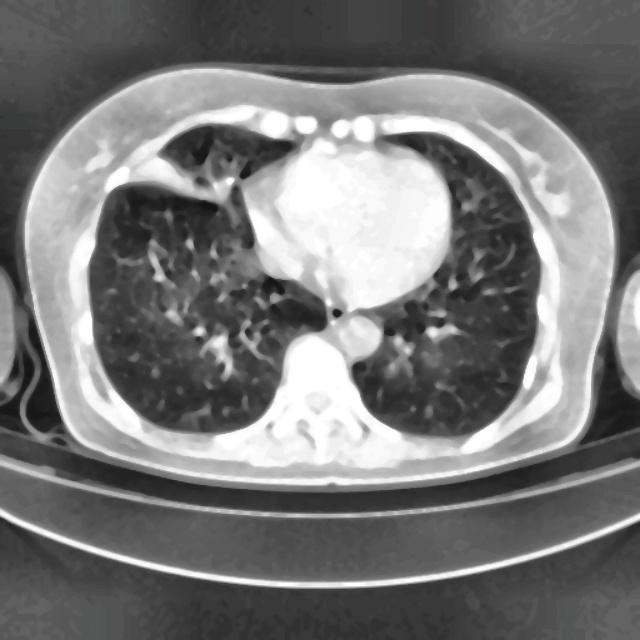covid: (18, 63, 618, 491)
